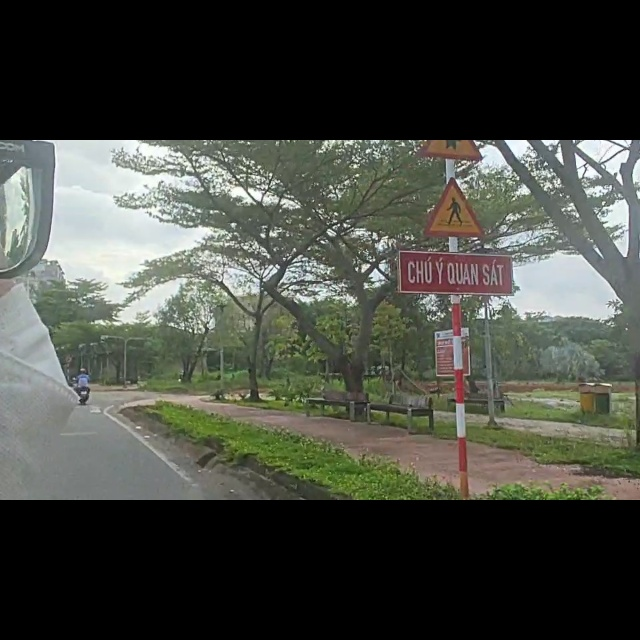bien_nguy_hiem: (423, 64, 495, 172)
